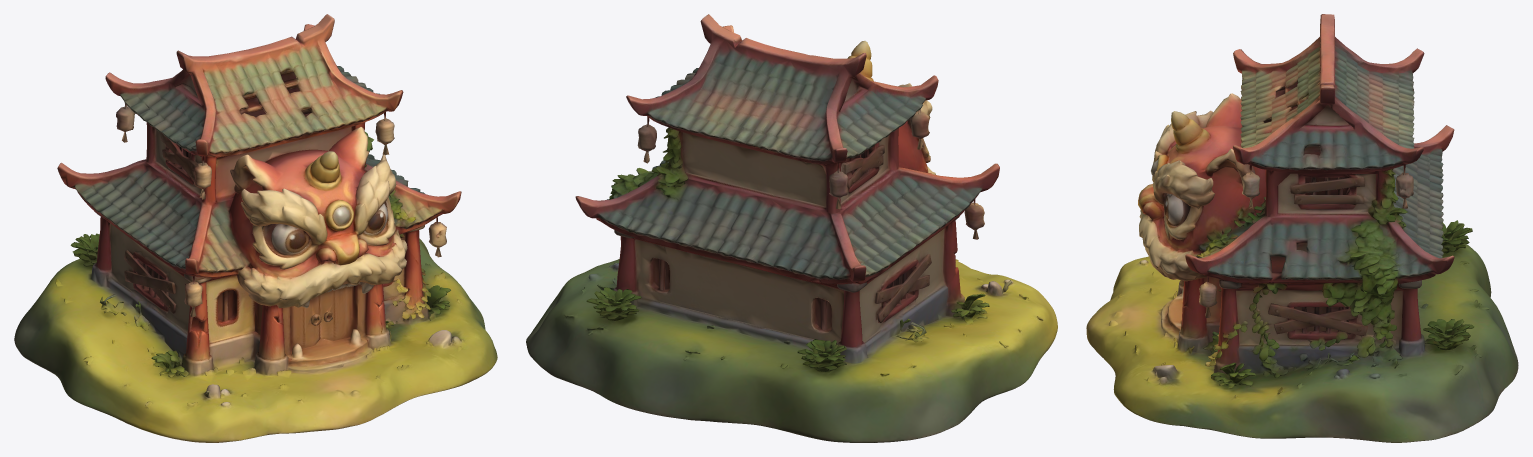
The model's file is old_barongsai.glb.
3 renders of one model, left to right at view 1: azimuth 30°, elevation 25°; view 2: azimuth 150°, elevation 25°; view 3: azimuth 270°, elevation 25°, orthographic. The views are drawn at different scales.
Parts seen in each view (by area): view 1: tripo_node_070613f9-6912-46ab-a1a1-1bfe22652b4e; view 2: tripo_node_070613f9-6912-46ab-a1a1-1bfe22652b4e; view 3: tripo_node_070613f9-6912-46ab-a1a1-1bfe22652b4e.
Boxes of the visible parts, x1,y1,x2,y2 form: tripo_node_070613f9-6912-46ab-a1a1-1bfe22652b4e: (14, 14, 497, 442); tripo_node_070613f9-6912-46ab-a1a1-1bfe22652b4e: (526, 14, 1057, 442); tripo_node_070613f9-6912-46ab-a1a1-1bfe22652b4e: (1086, 14, 1518, 442).
Size of the model in its own units: 1 by 0.7046 by 0.9295.
1 material, 1 textured.
